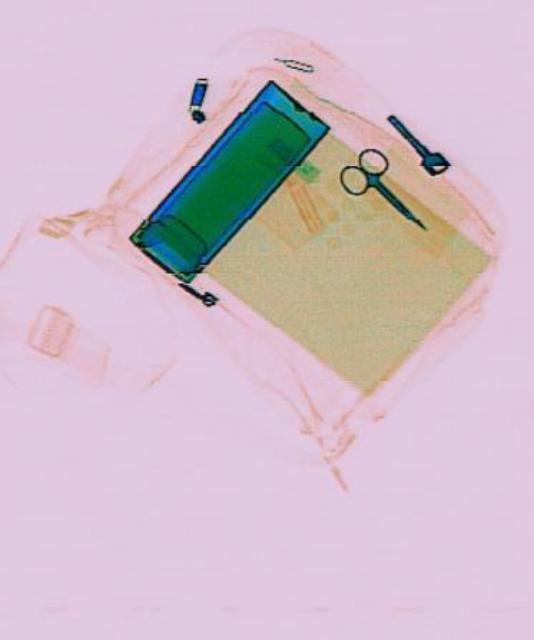Scissors: (330, 135, 437, 251)
